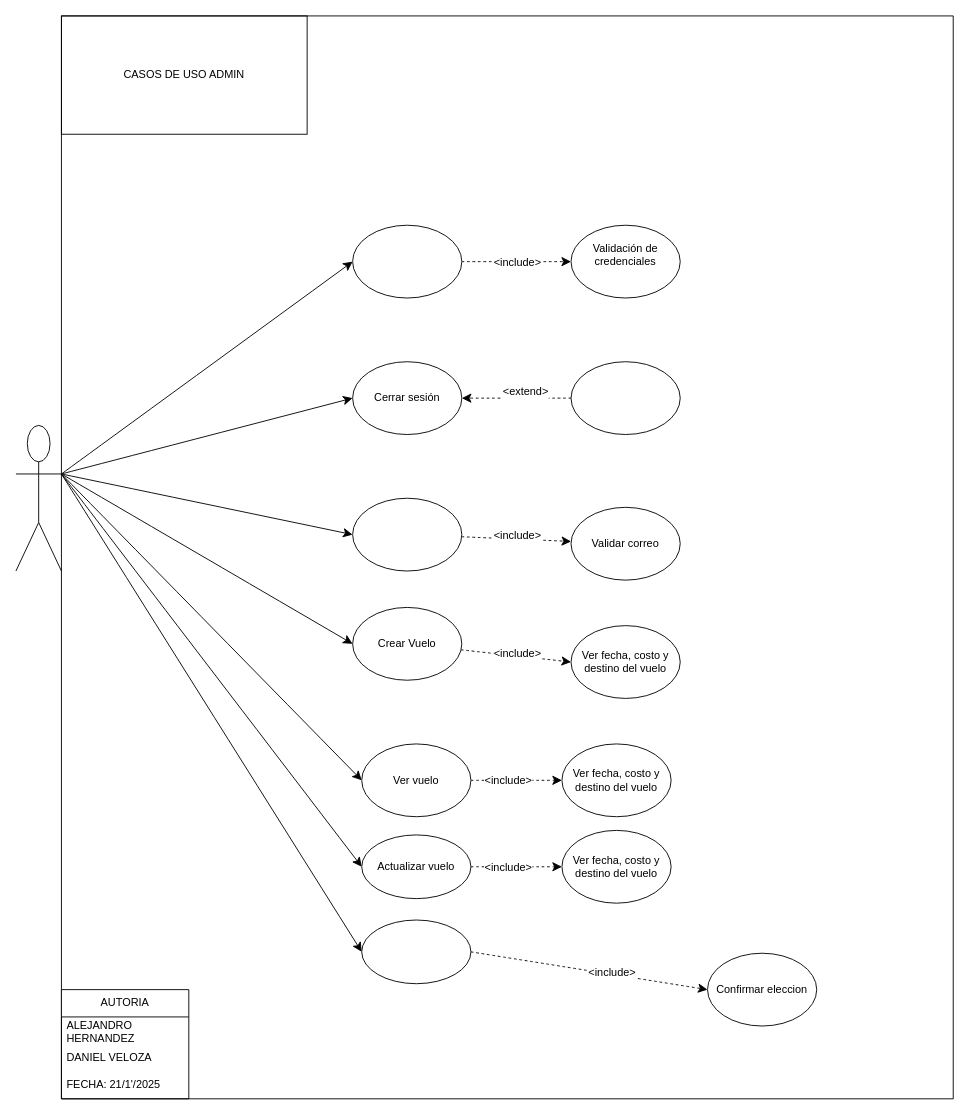
This 969x1115 diagram has some shape labels left out. The shapes that lost their labels are listed below. From the top down, each one's centre as x and y in pixels, then its label:
At (407,261): "Iniciar sesión".
At (625,398): "Gestión de sesión".
At (38,498): "ADMIN".
At (407,534): "Recuperar contraseña".
At (416,951): "Eliminar vuelo".
